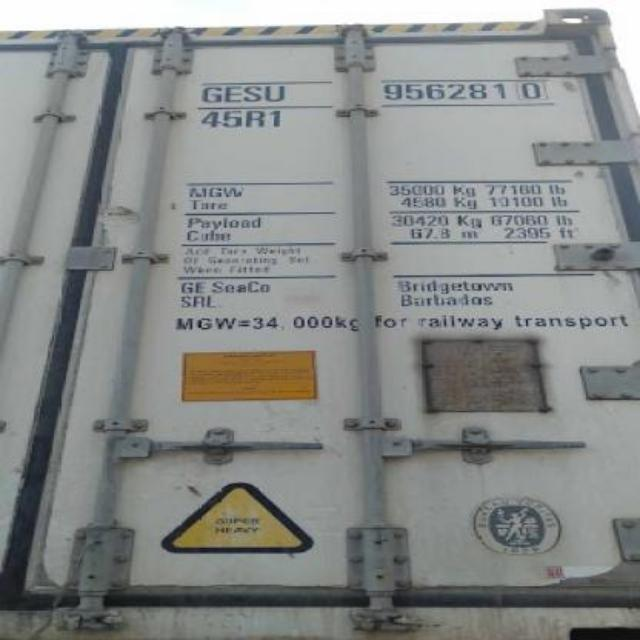0: (514, 76, 550, 100)
1: (490, 75, 510, 105)
2: (448, 76, 469, 104)
5: (404, 78, 422, 104)
6: (424, 78, 450, 104)
8: (468, 77, 488, 106)
9: (376, 78, 406, 102)
E: (224, 81, 244, 107)
G: (196, 82, 224, 104)
S: (244, 82, 264, 106)
U: (260, 81, 292, 105)
